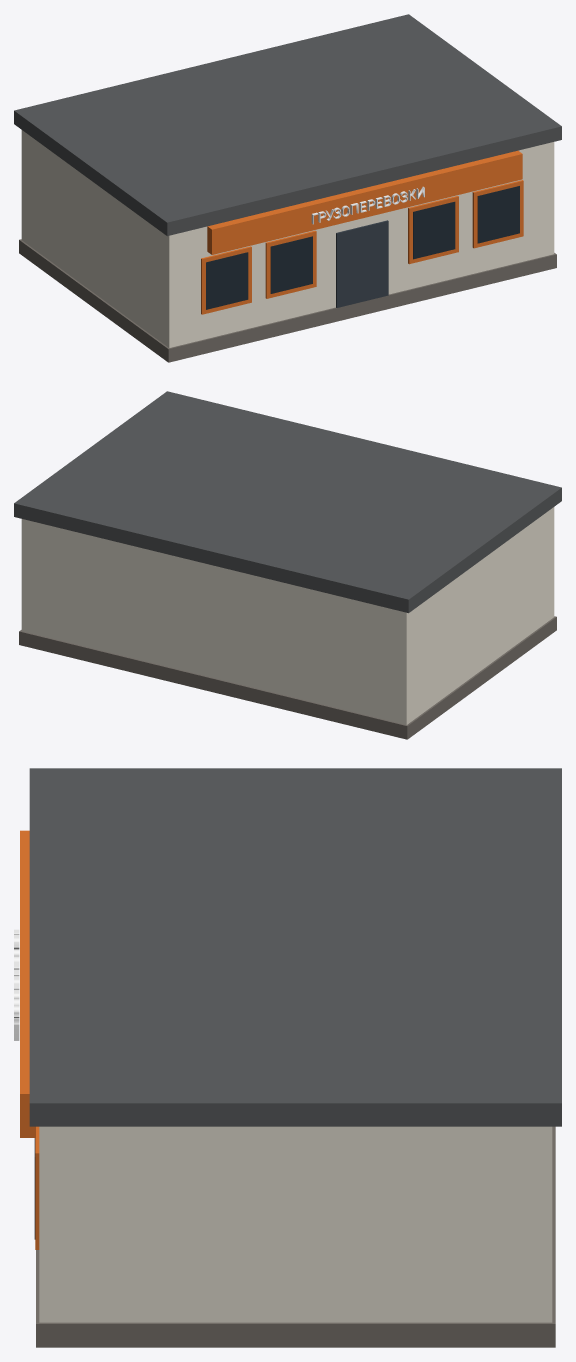
Rendered from office.glb.
3 views of the same model, one above another, from view 1: azimuth 30°, elevation 25°; view 2: azimuth 150°, elevation 25°; view 3: azimuth 270°, elevation 25° (orthographic). The views are drawn at different scales.
Visible parts, largest first — view 1: office, office_sign; view 2: office; view 3: office.
Part boxes in pixels (x1,y1,x2,y2): office: (14,14,561,362); office_sign: (311,186,424,224); office: (14,391,561,739); office: (20,768,561,1347).
Size of the model in its own units: 12.2 by 4.2 by 8.44.
